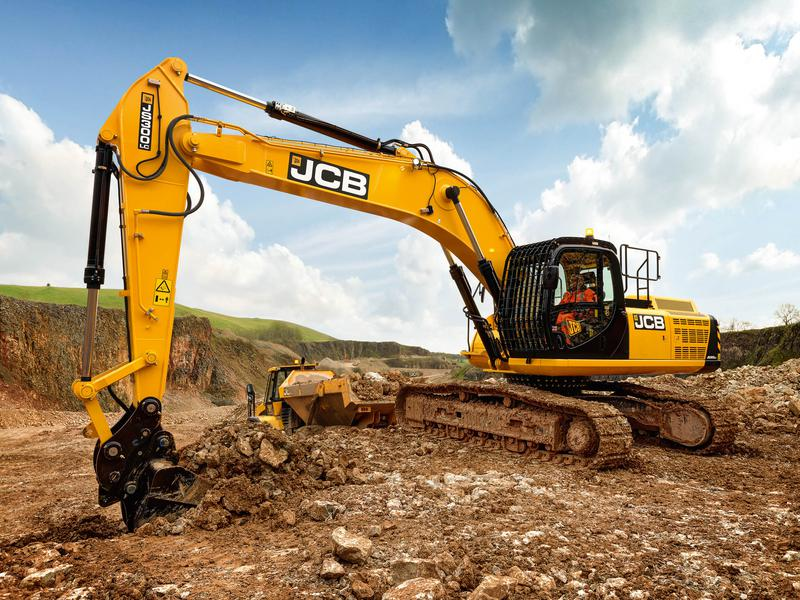shovel: (70, 54, 757, 504)
